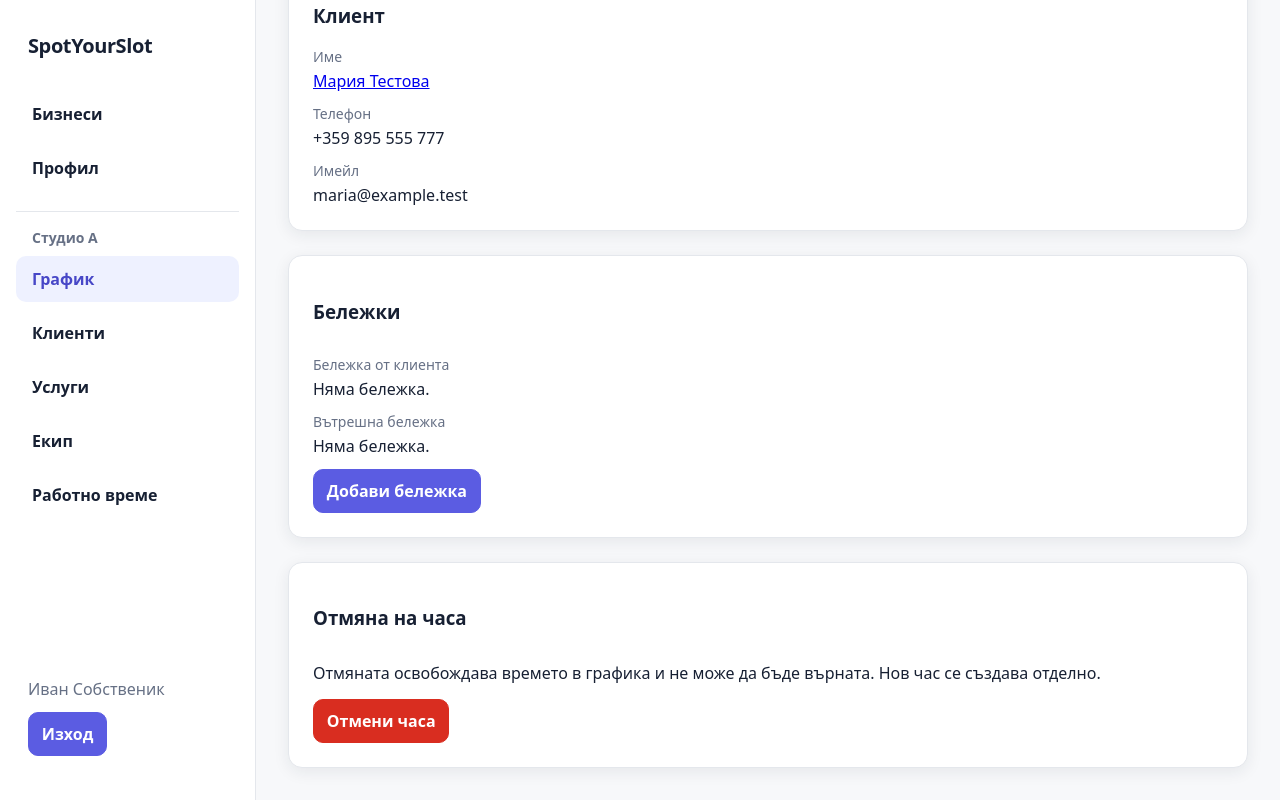
Scenario: Business context › a switch of Business discards an unresolved cancellation and an edited note with every Appointment value
(page scrolled)
Click the button "Отмени часа". click: (381, 721)
box: [313,699,450,743]
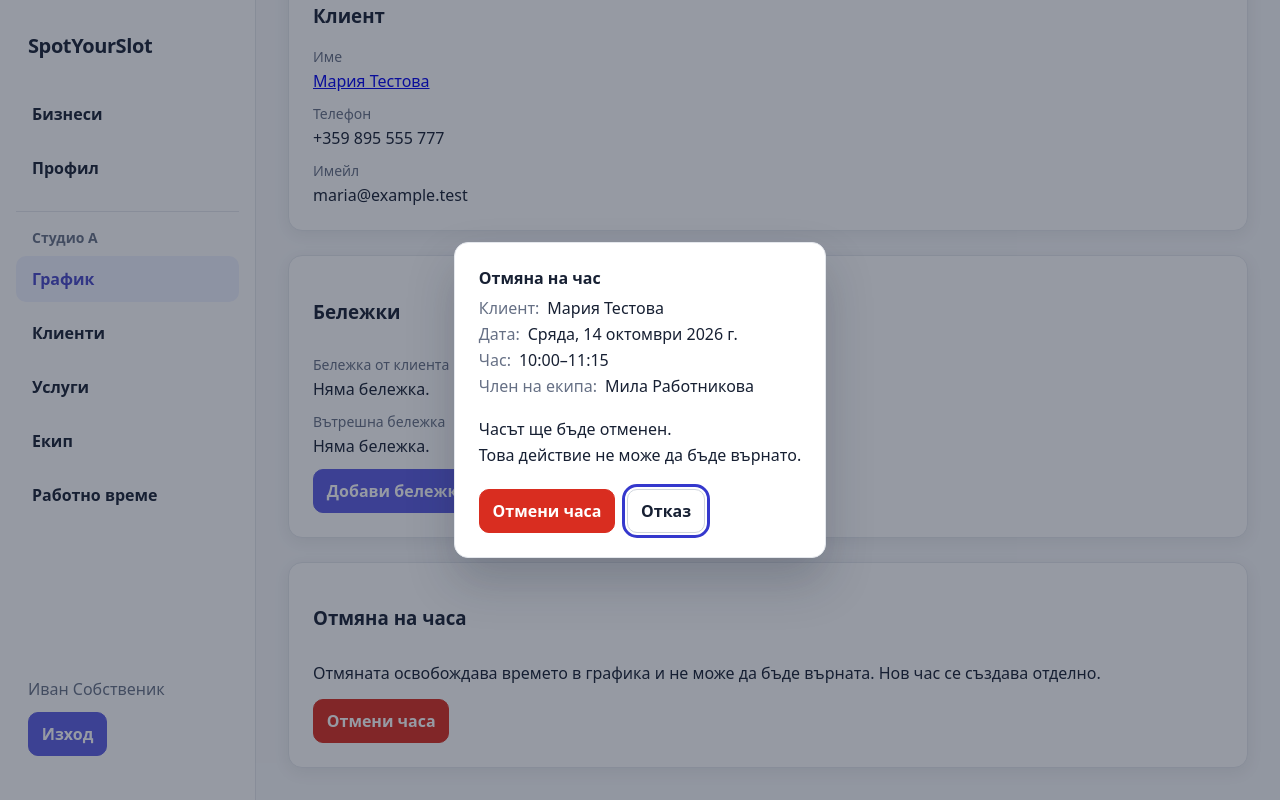
Click the button "Отмени часа". click: (547, 511)
box: [479,489,615,533]
(page scrolled)
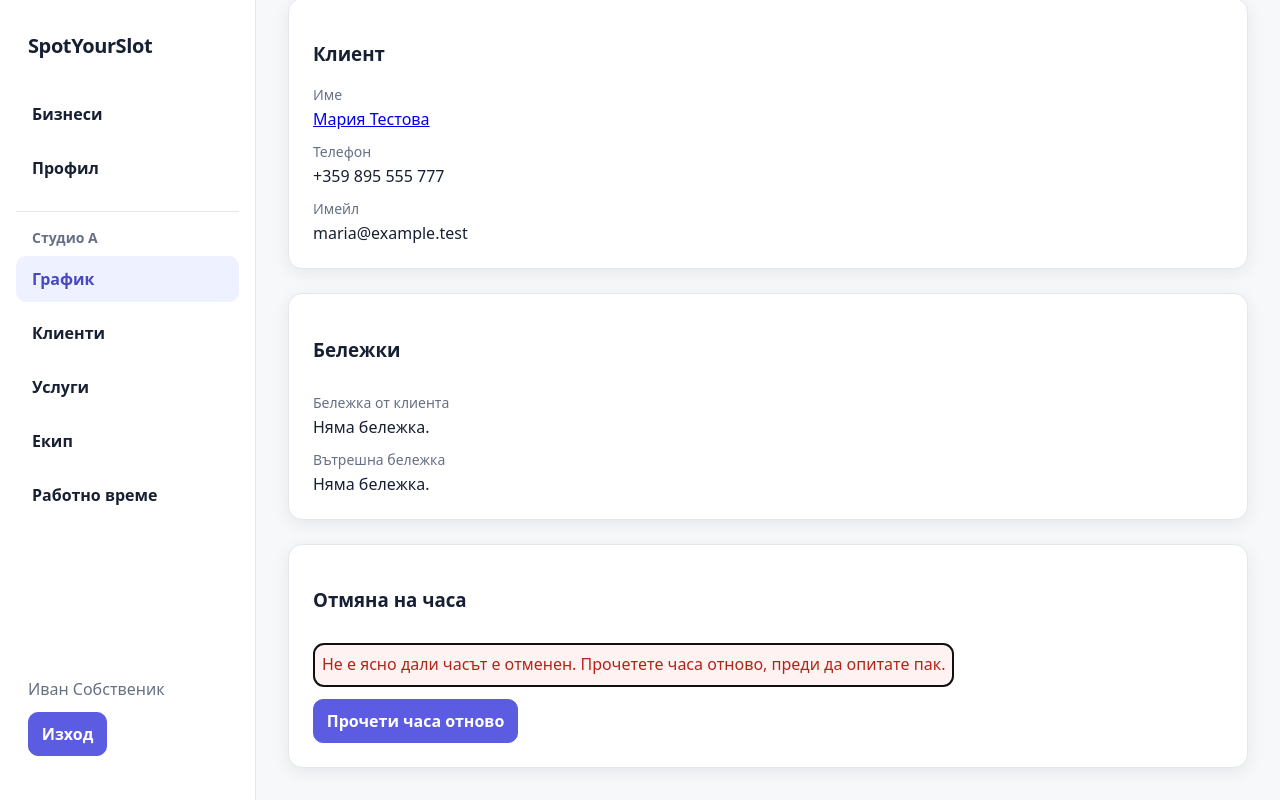
Expected: the message "Не е ясно дали часът е отменен. Прочетете часа отново, преди да опитате пак." is shown, [313,643,954,687]
